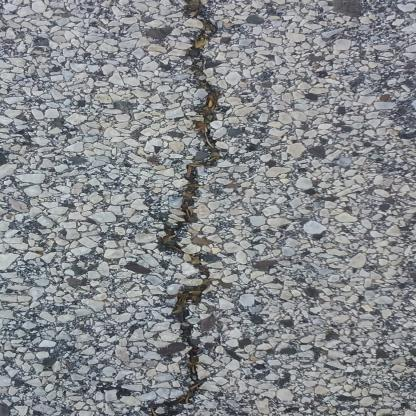Cracks: (108, 0, 223, 416)
